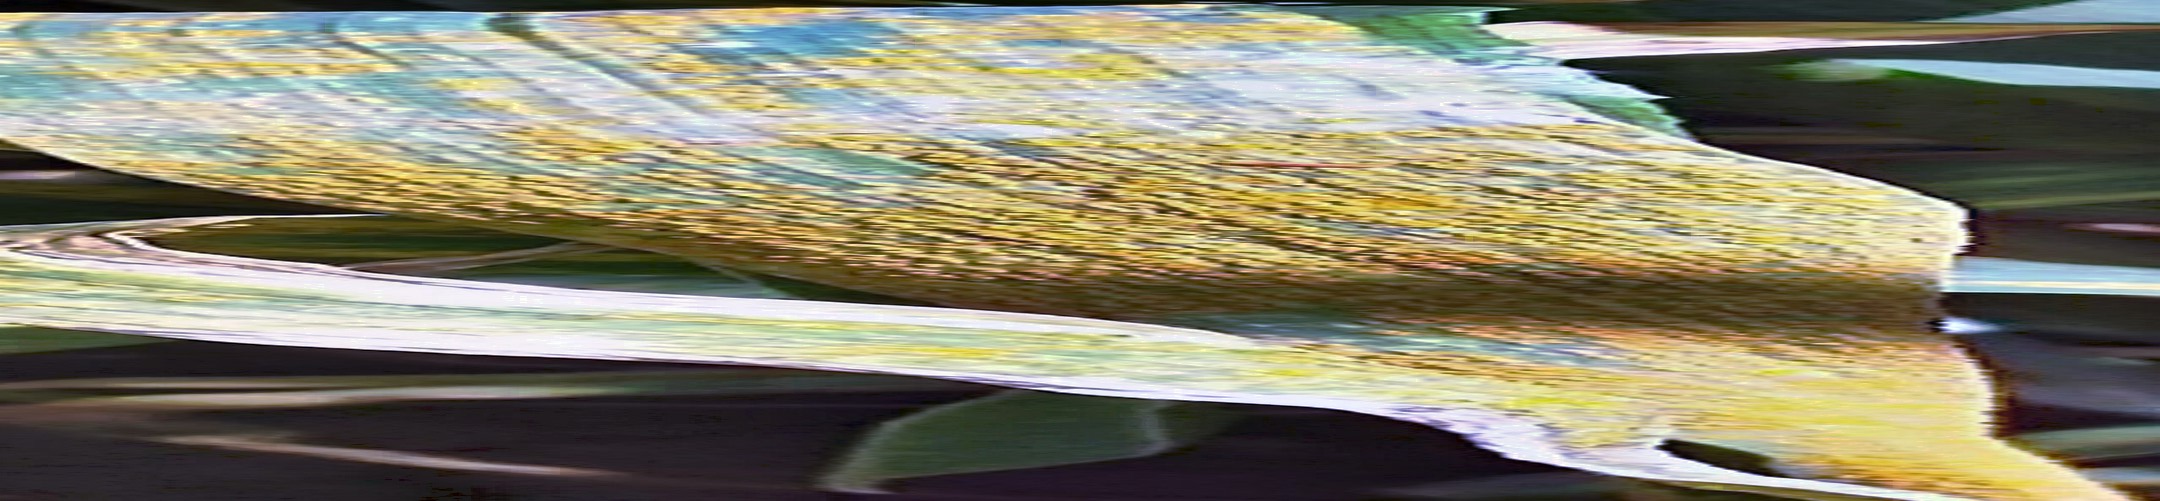Leaf Rust: (956, 78, 1513, 394)
